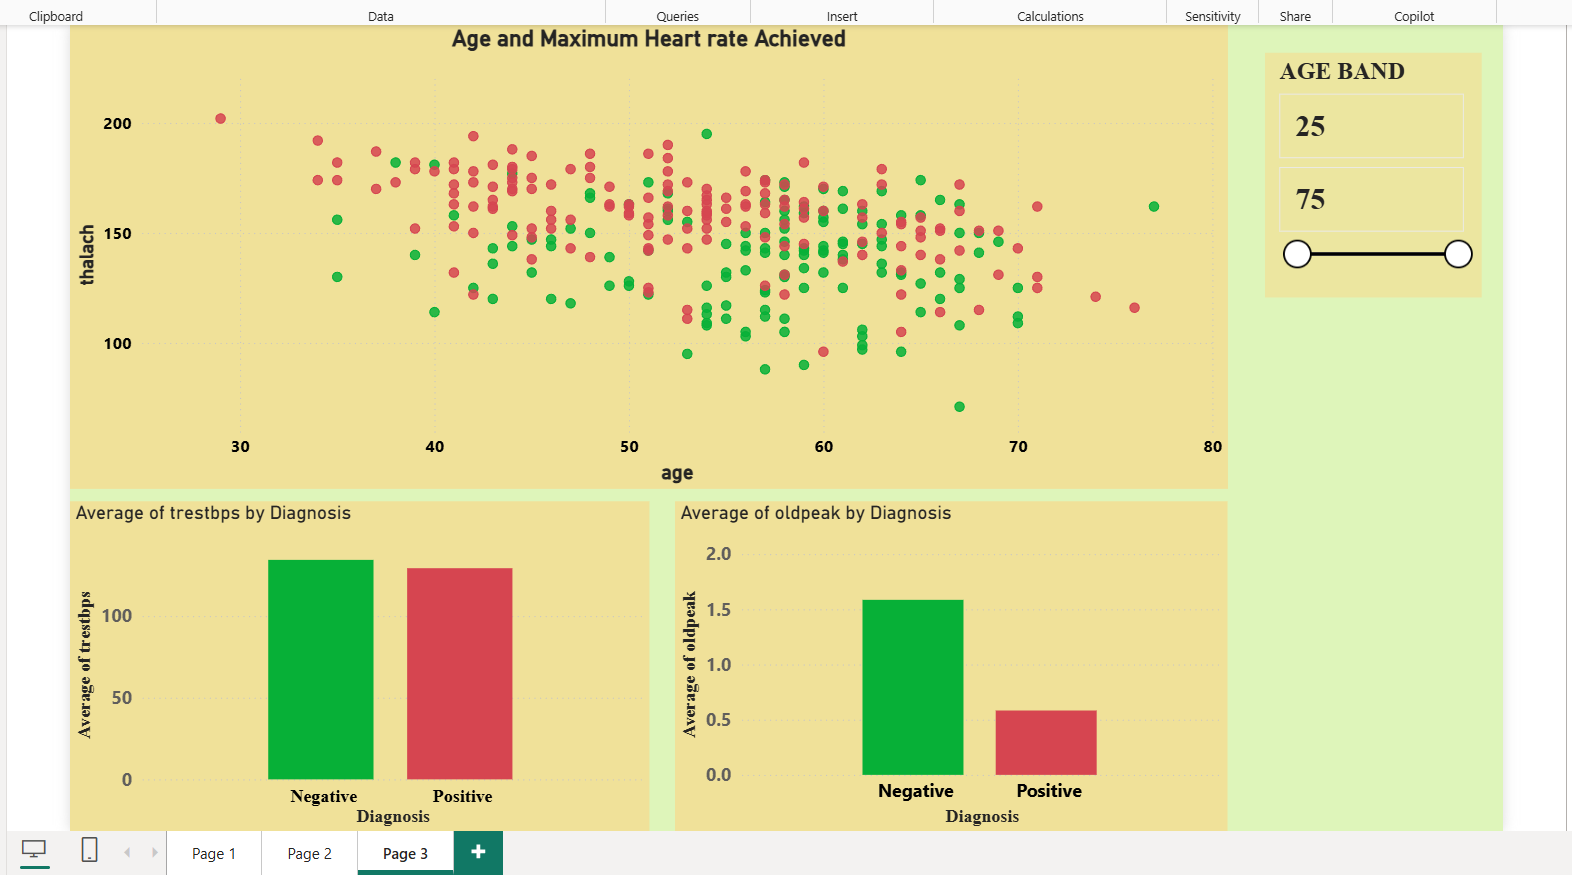

The page's visual inventory and layout, read from the dashboard file:
{"tool":"powerbi","page":{"name":"Page 3","canvas":[1280,720],"ordinal":2},"visuals":[{"type":"clusteredColumnChart","fields":{"Category":["Heart Attack Data Set.Diagnosis"],"Y":["Avg(Heart Attack Data Set.trestbps)"]},"box":[0,425.4,517.3,295],"z":0},{"type":"scatterChart","title":"Age and Maximum Heart rate Achieved","fields":{"X":["Heart Attack Data Set.age"],"Y":["Heart Attack Data Set.thalach"],"Series":["Heart Attack Data Set.Diagnosis"]},"box":[0,0,1034.7,414.4],"z":1000},{"type":"clusteredColumnChart","fields":{"Y":["Avg(Heart Attack Data Set.oldpeak)"],"Category":["Heart Attack Data Set.Diagnosis"]},"box":[540.7,425.4,494,295],"z":2000},{"type":"slicer","fields":{"Values":["Heart Attack Data Set.AGE BAND"]},"box":[1067.6,24.7,193.5,218.2],"z":3000}]}

Visuals, with their boxes on the page's 1280x720 design canvas (x1, y1, x2, y2). These are canvas units, not pixel positions in the 1572x875 screenshot, which may show the page scaled, cropped or inside an application window:
clusteredColumnChart - Heart Attack Data Set.Diagnosis x Avg(Heart Attack Data Set.trestbps): box=[0, 425, 517, 720]
"Age and Maximum Heart rate Achieved" scatterChart: box=[0, 0, 1035, 414]
clusteredColumnChart - Avg(Heart Attack Data Set.oldpeak) x Heart Attack Data Set.Diagnosis: box=[541, 425, 1035, 720]
slicer - Heart Attack Data Set.AGE BAND: box=[1068, 25, 1261, 243]
